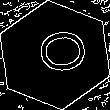O_W: (25, 30, 85, 80)
